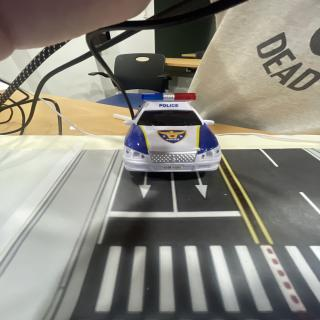Police_car: (123, 93, 221, 172)
